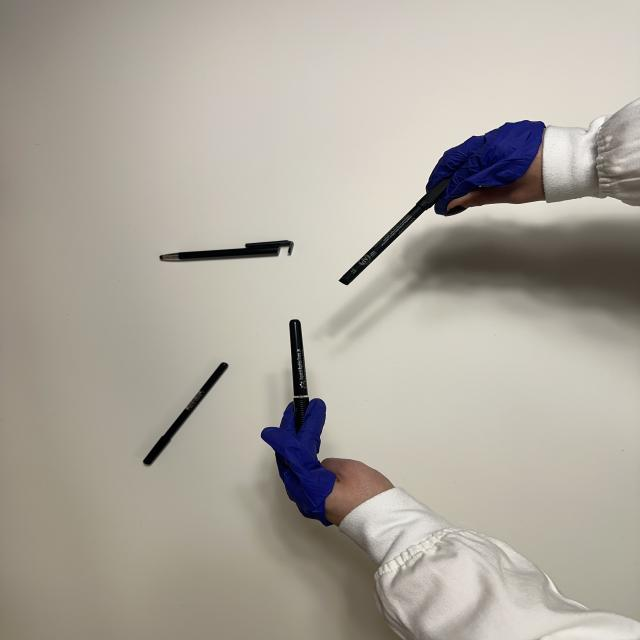glove_partial: (259, 394, 402, 530), (422, 117, 561, 220)
